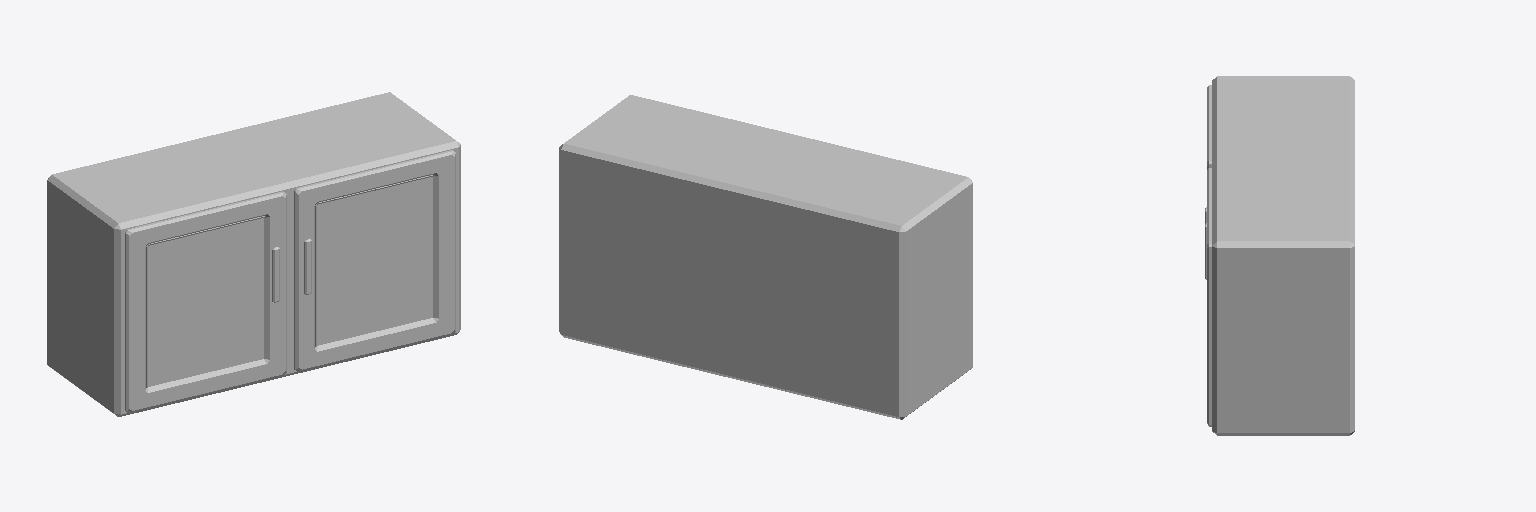
Rendered from Counter_Shelf.obj.
3 renders of one model, left to right at view 1: azimuth 30°, elevation 25°; view 2: azimuth 150°, elevation 25°; view 3: azimuth 270°, elevation 25°, orthographic.
Parts seen in each view (by area): view 1: Counter_Shelf; view 2: Counter_Shelf; view 3: Counter_Shelf.
Boxes of the visible parts, box(x1,y1,x2,y2) form: Counter_Shelf: box(47, 92, 460, 416); Counter_Shelf: box(559, 95, 972, 419); Counter_Shelf: box(1205, 76, 1354, 435).
Size of the model in its own units: 7.39 by 3.95 by 2.78.